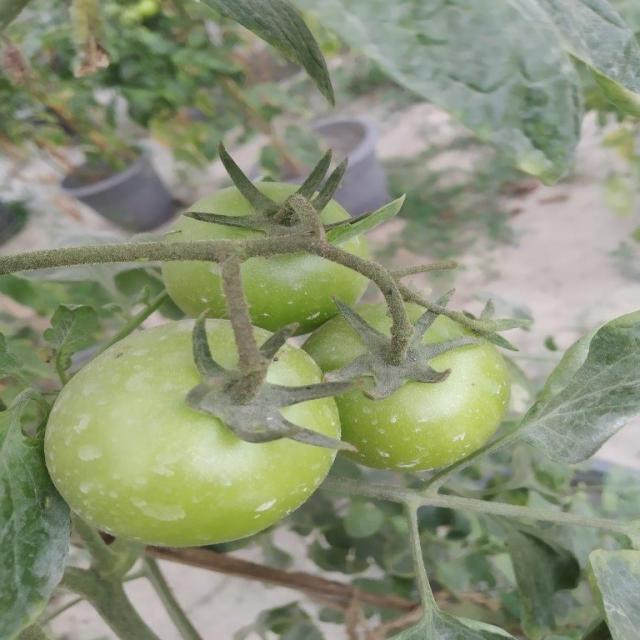Unripe: (51, 320, 340, 548), (308, 298, 512, 469), (160, 178, 372, 329)
